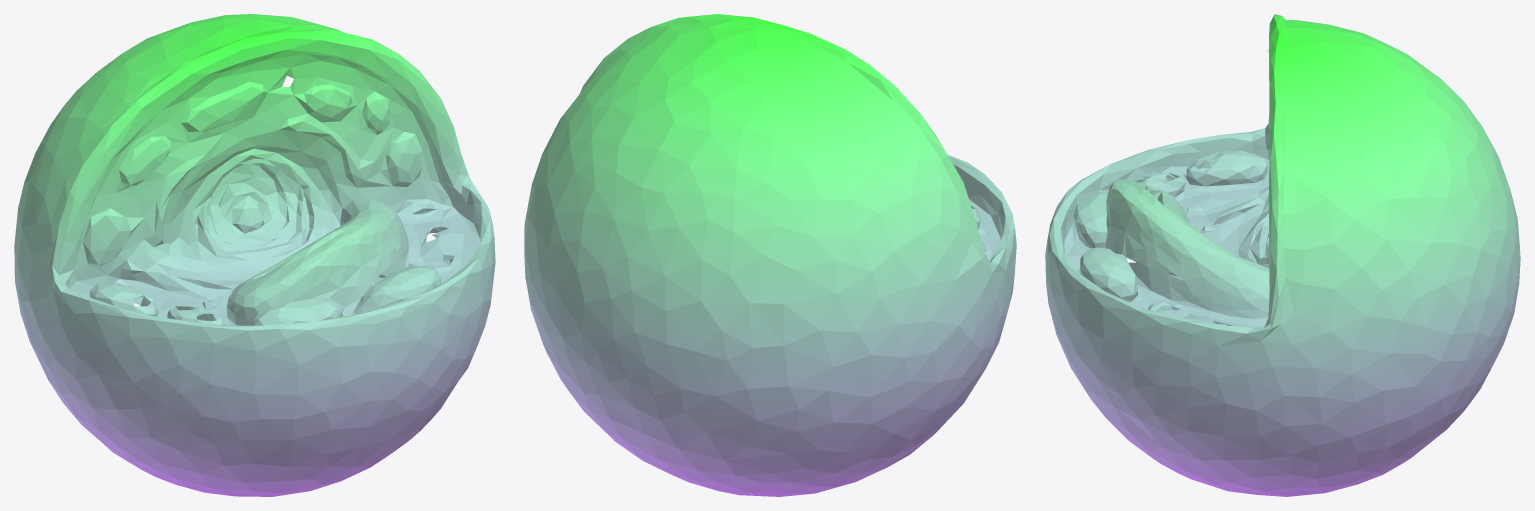
File: 106_cyb_laser_gradient_fish_scales_2953_2026_10_03_05c073.glb
3 views of the same model, side by side, from view 1: azimuth 30°, elevation 25°; view 2: azimuth 150°, elevation 25°; view 3: azimuth 270°, elevation 25° (orthographic). The views are drawn at different scales.
Visible parts, largest first — view 1: geometry_0; view 2: geometry_0; view 3: geometry_0.
Part boxes in pixels (x1,y1,x2,y2): geometry_0: [14, 14, 495, 496]; geometry_0: [524, 14, 1016, 496]; geometry_0: [1045, 14, 1520, 496].
Size of the model in its own units: 1 by 1 by 0.9935.
